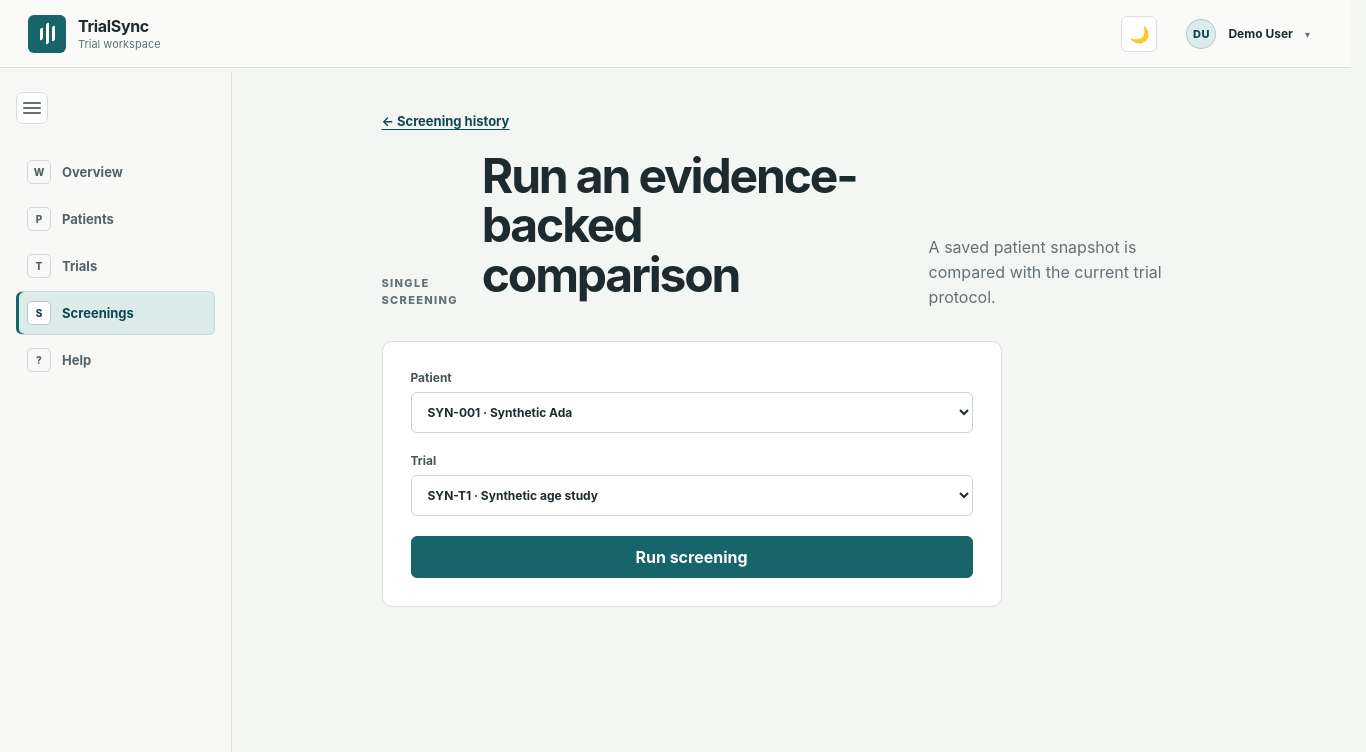
Test: TrialSync Phase 5 screening workflow › loads approved inputs and submits a patient/trial pair
Click the button "Run screening". click: (692, 557)
box: [410, 536, 972, 578]
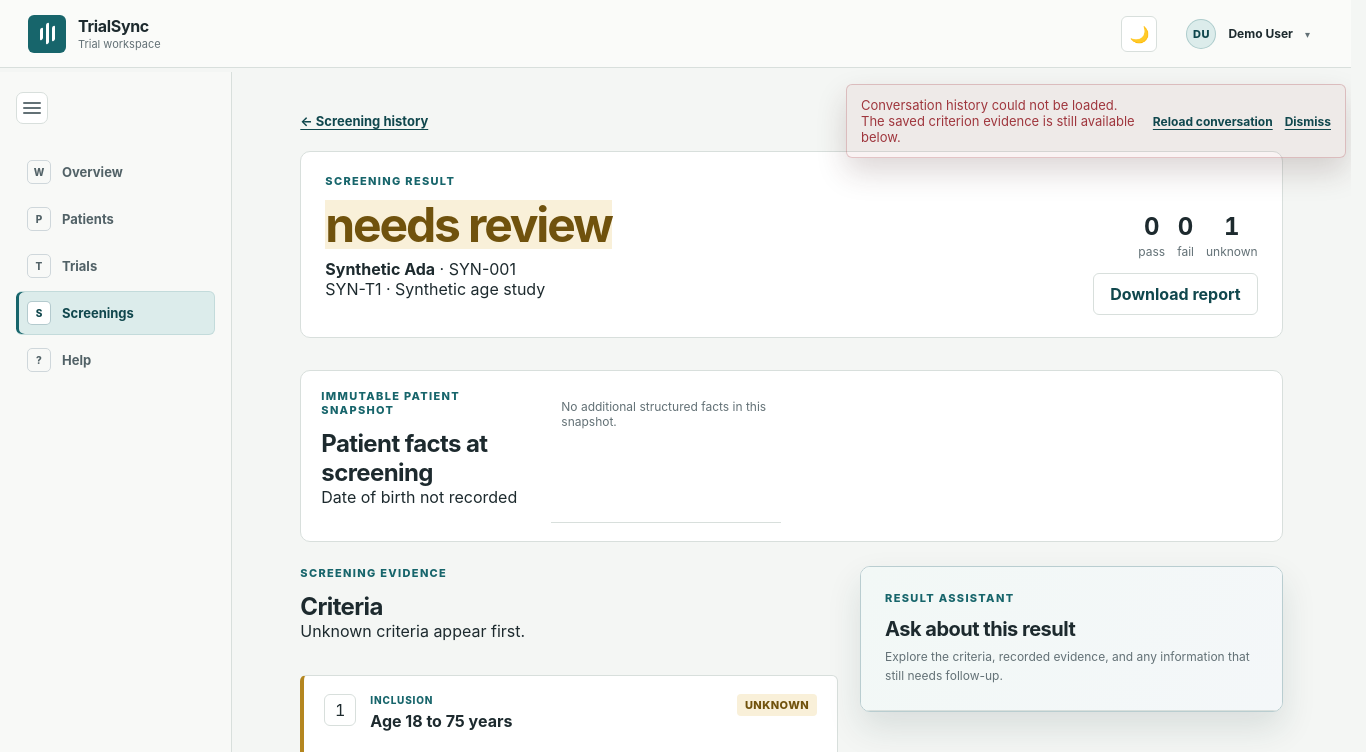
Now the heading "needs review" is shown, box [325, 200, 612, 249]
